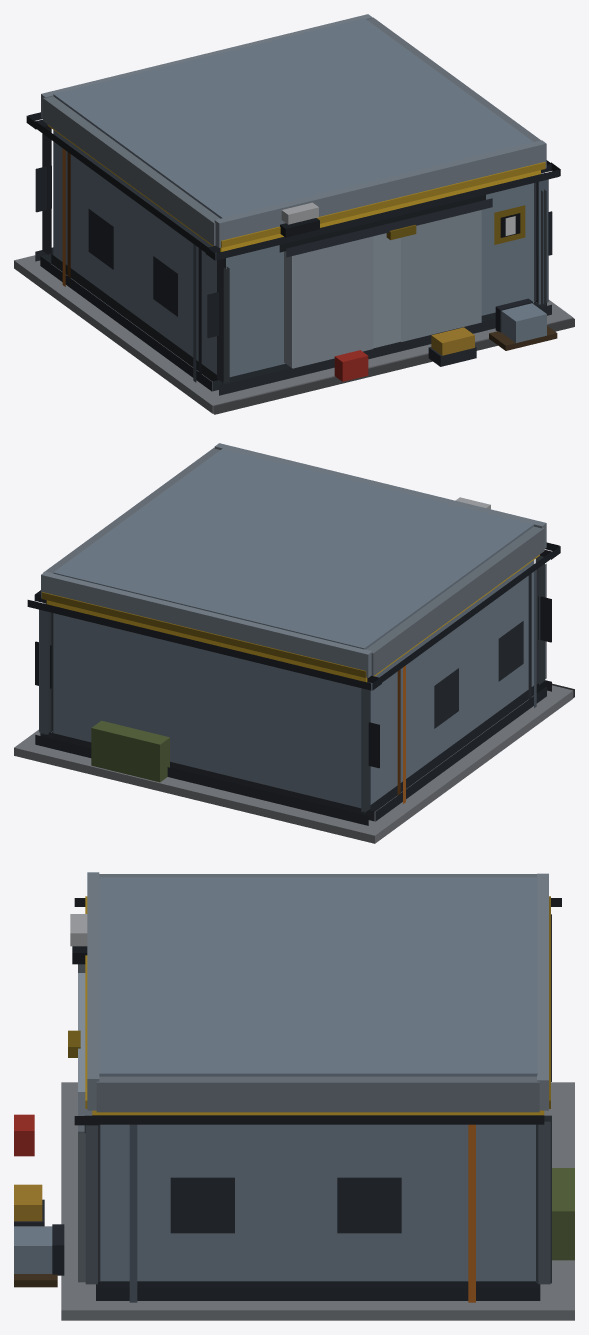
The model's file is GoldenRatMechSil.fbx.
The picture shows the model from 3 angles, top to bottom: view 1: azimuth 30°, elevation 25°; view 2: azimuth 150°, elevation 25°; view 3: azimuth 270°, elevation 25°; orthographic projection. The views are drawn at different scales.
Parts seen in each view (by area): view 1: MH_S_All; view 2: MH_S_All; view 3: MH_S_All.
Part boxes in pixels (bbox=[...]): MH_S_All: bbox=[14, 14, 574, 414]; MH_S_All: bbox=[14, 443, 574, 843]; MH_S_All: bbox=[14, 872, 574, 1320].
Size of the model in its own units: 42.04 by 19.9 by 43.74.
